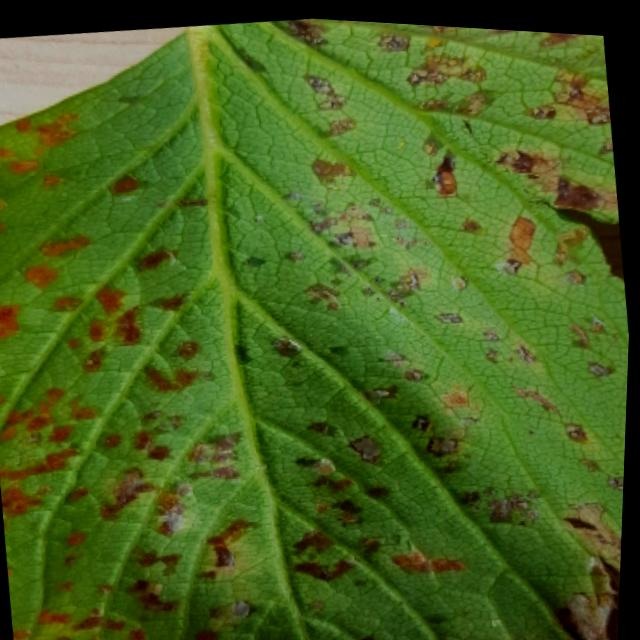Angular Leafspot: (0, 14, 631, 640)
